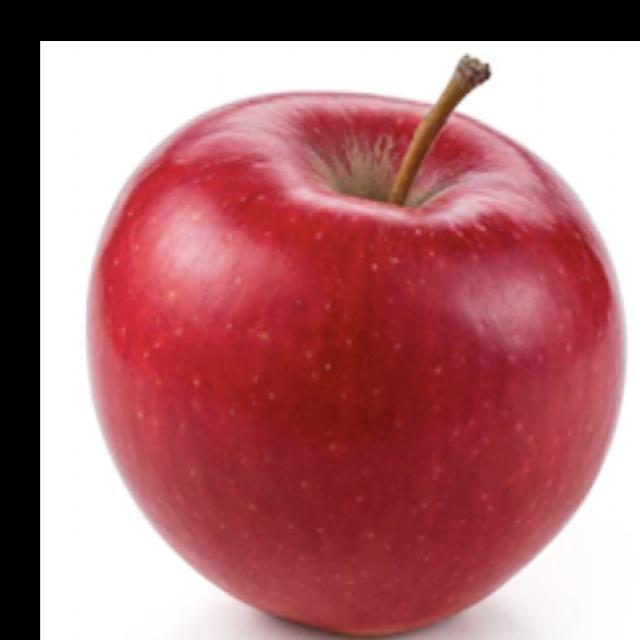Fresh Apple: (88, 84, 625, 640)
